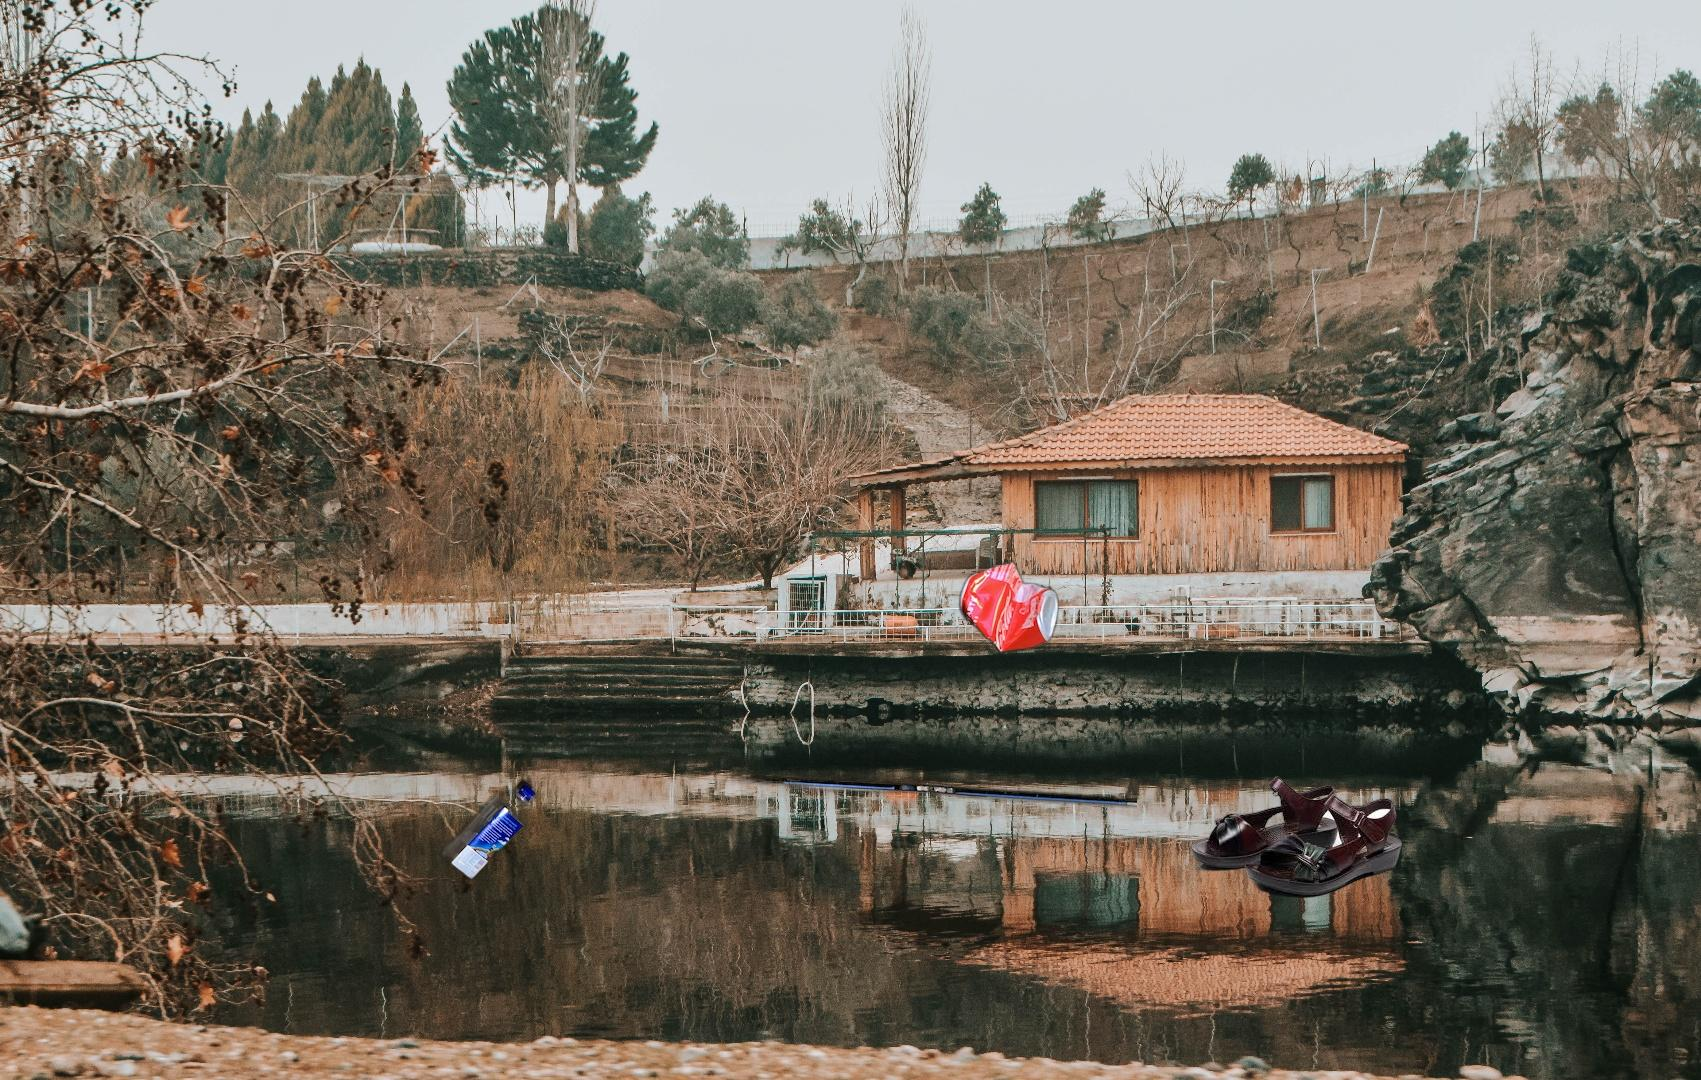metal-cans: (625, 339, 1137, 1020)
plastic-bottles: (436, 774, 541, 887)
shoes: (1188, 772, 1405, 901)
